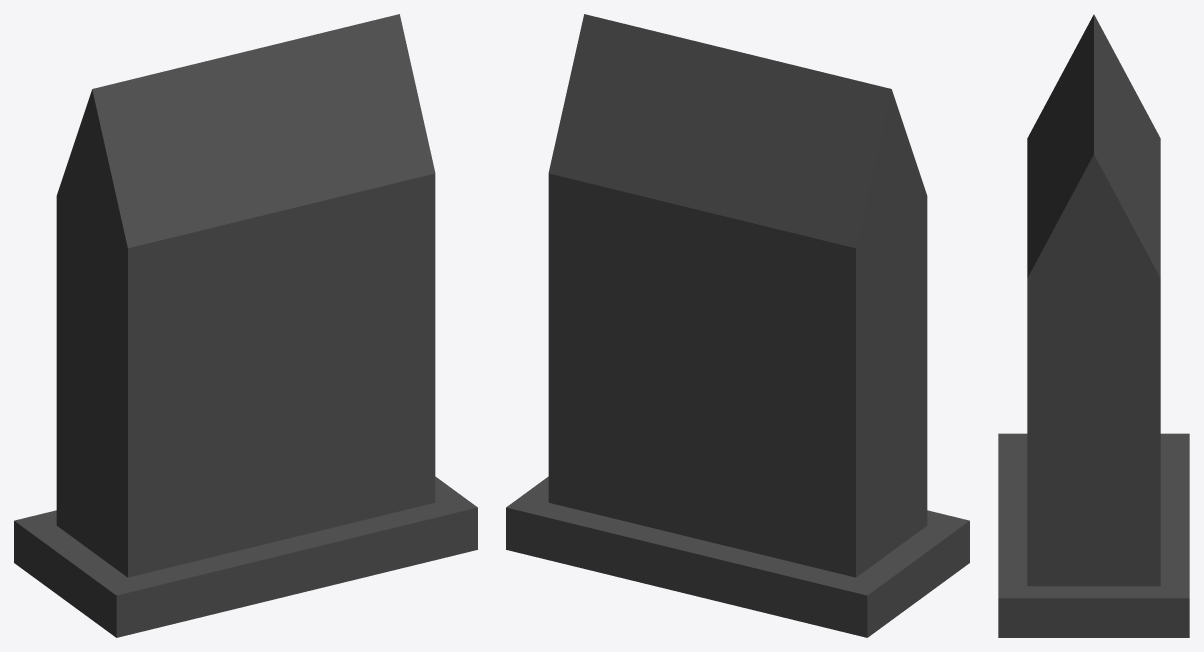
Rendered from StoneMid2.glb.
3 views of the same model, side by side, from view 1: azimuth 30°, elevation 25°; view 2: azimuth 150°, elevation 25°; view 3: azimuth 270°, elevation 25° (orthographic). The views are drawn at different scales.
Parts seen in each view (by area): view 1: Cube; view 2: Cube; view 3: Cube.
Part boxes in pixels (x1,y1,x2,y2): Cube: (14,14,477,637); Cube: (506,14,969,637); Cube: (998,14,1189,637).
Bounding box in the file's own units: 2 × 2.67 × 0.9821.
Materials: 1 (1 with a texture image).
